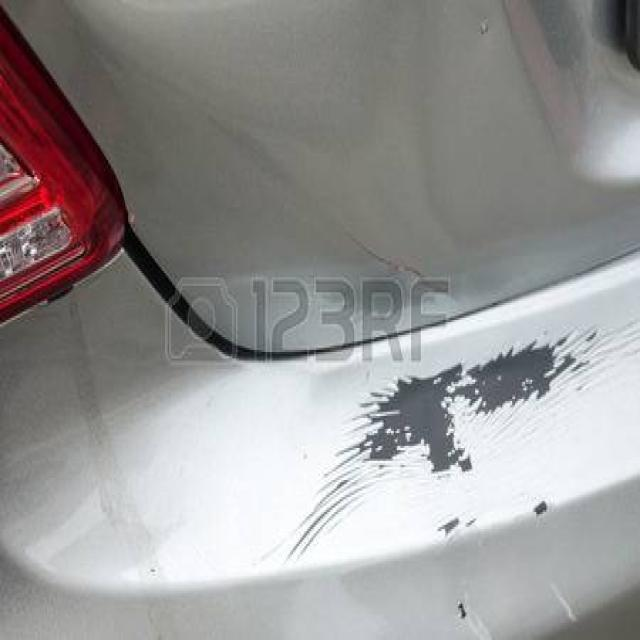Scratch: (304, 320, 613, 546)
